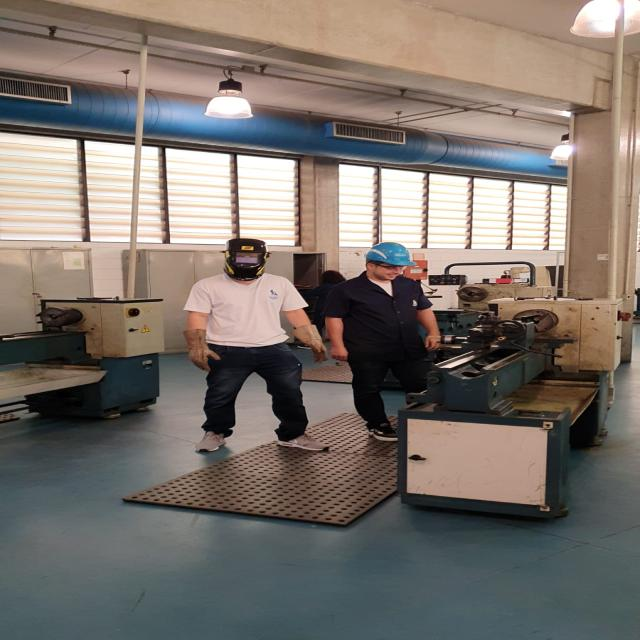oculos-epi: (371, 263, 407, 271)
